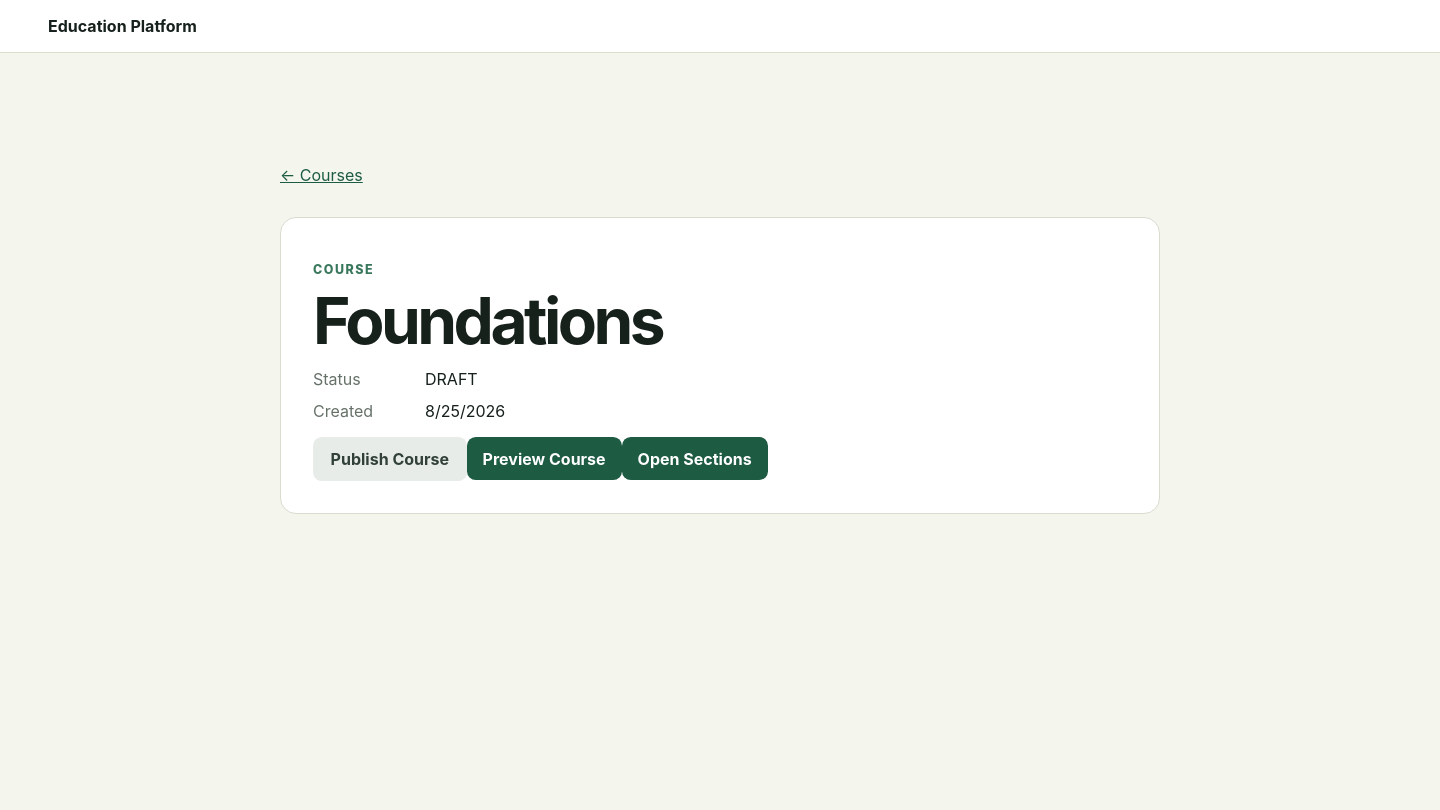
Test: Course UI › surfaces a readiness conflict and keeps the DRAFT Course publishable
The image size is (1440, 810).
Step 1. Click the button "Publish Course" → (390, 459), box 313,437 -> 467,481
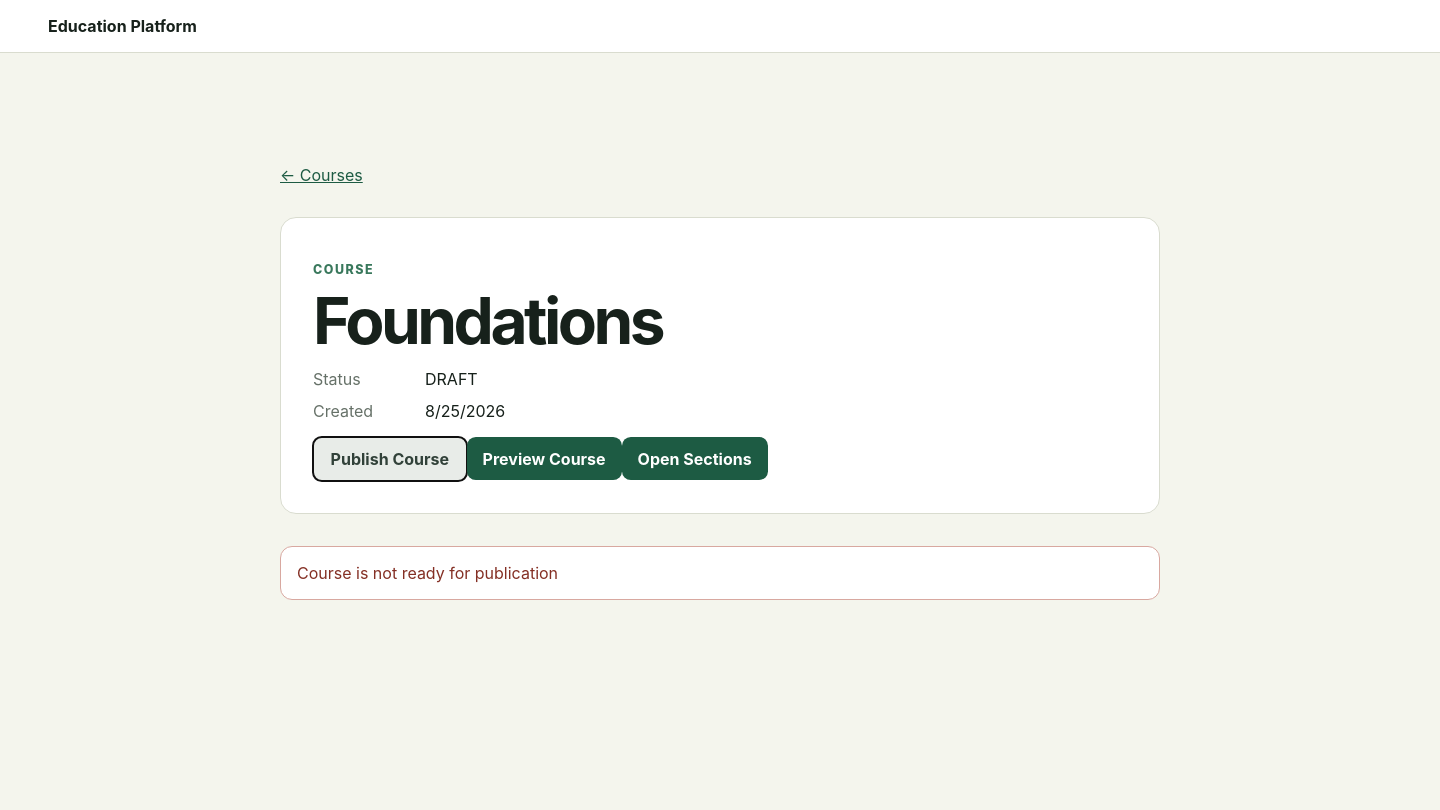
Expected: the heading "Foundations" is shown, 313,282 -> 662,359
Expected: the message reads "Course is not ready for publication", 297,563 -> 558,583
